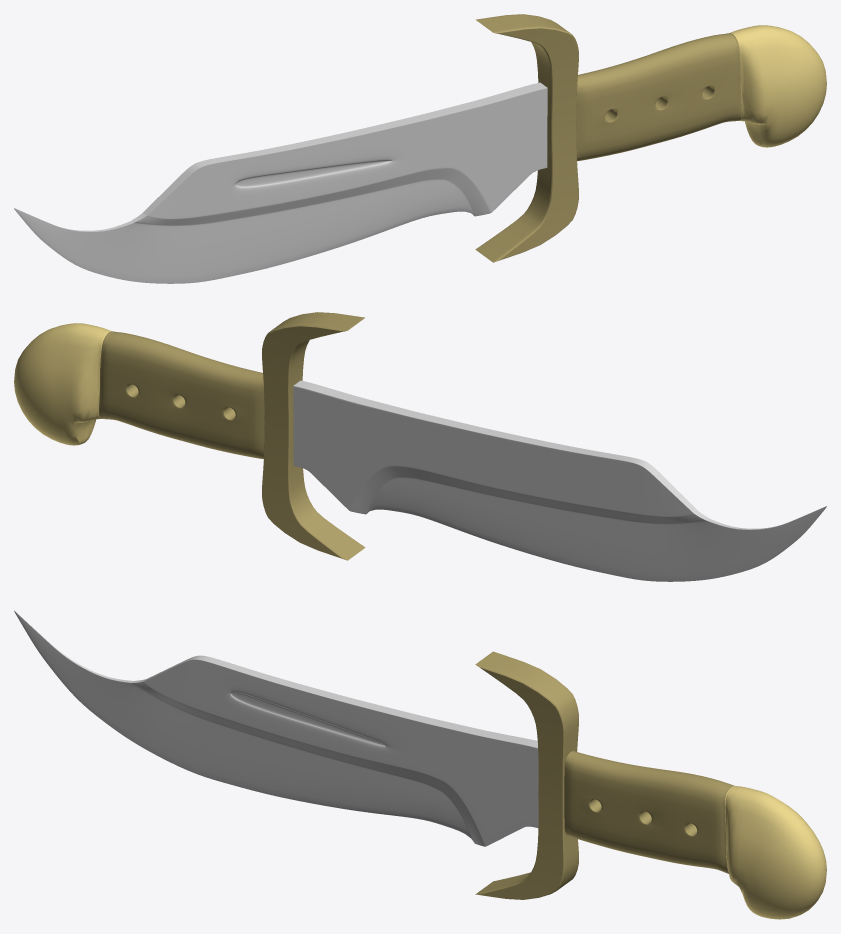
The picture shows the model from 3 angles, top to bottom: view 1: azimuth 30°, elevation 25°; view 2: azimuth 150°, elevation 25°; view 3: azimuth 330°, elevation 25°; orthographic projection.
Parts seen in each view (by area): view 1: Симметрия_1_2, Симметрия_1, Симметрия; view 2: Симметрия_1_2, Симметрия_1, Симметрия; view 3: Симметрия_1_2, Симметрия_1, Симметрия.
Boxes of the visible parts, <box> form: Симметрия_1_2: <box>14,82,547,283</box>; Симметрия_1: <box>576,25,826,161</box>; Симметрия: <box>475,14,578,262</box>; Симметрия_1_2: <box>293,380,826,581</box>; Симметрия_1: <box>14,323,264,459</box>; Симметрия: <box>262,312,365,560</box>; Симметрия_1_2: <box>14,610,538,846</box>; Симметрия_1: <box>564,751,826,919</box>; Симметрия: <box>475,651,578,899</box>.
Size of the model in its own units: 7.15 by 1.94 by 0.4921.
